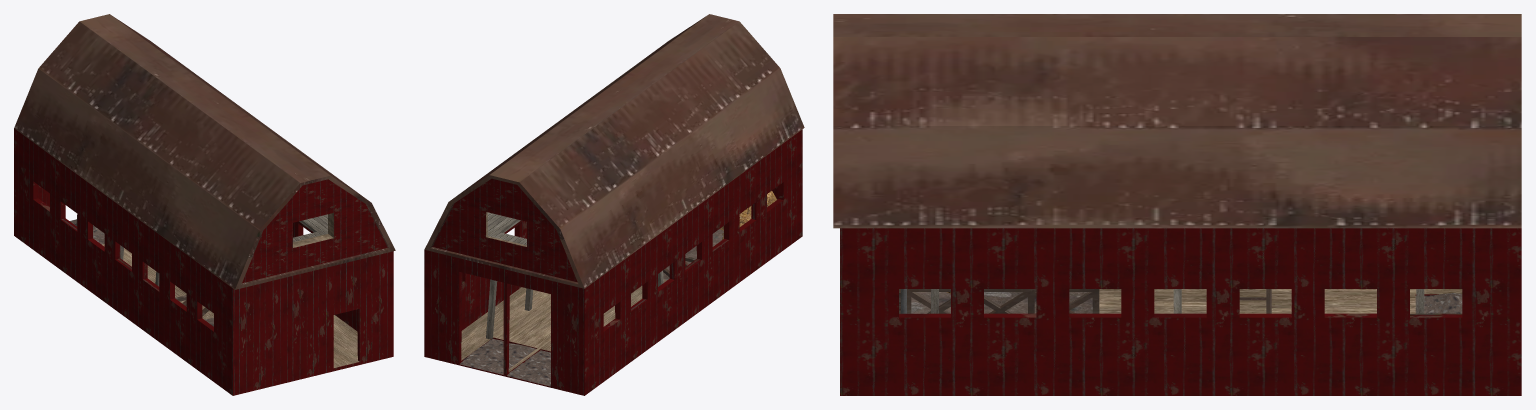
The model's file is old_wooden_barn_house_4.glb.
3 views of the same model, side by side, from view 1: azimuth 30°, elevation 25°; view 2: azimuth 150°, elevation 25°; view 3: azimuth 270°, elevation 25° (orthographic). The views are drawn at different scales.
Visible parts, largest first — view 1: Cube.007_1, Cube.004_0, Cube.022_6, Cube.018_15, Cube.024_16, Cube.026_18; view 2: Cube.007_1, Cube.004_0, Cube.022_6, Cube.018_15, Plane.015_2, Cube.024_16, Cube.019_5; view 3: Cube.007_1, Cube.004_0, Cube.018_15, Cube.006_3, Cube.025_17, Plane.015_2, Cube.019_5.
Part boxes in pixels (x1,y1,x2,y2): Cube.007_1: [14, 14, 395, 289]; Cube.004_0: [14, 128, 393, 395]; Cube.022_6: [242, 179, 387, 283]; Cube.018_15: [102, 244, 359, 367]; Cube.024_16: [293, 214, 327, 242]; Cube.026_18: [293, 213, 333, 247]; Cube.007_1: [424, 14, 804, 288]; Cube.004_0: [424, 129, 802, 395]; Cube.022_6: [432, 178, 577, 282]; Cube.018_15: [461, 279, 667, 371]; Plane.015_2: [460, 339, 550, 386]; Cube.024_16: [487, 212, 526, 245]; Cube.019_5: [486, 270, 663, 339]; Cube.007_1: [833, 14, 1521, 228]; Cube.004_0: [840, 228, 1521, 395]; Cube.018_15: [1099, 289, 1462, 313]; Cube.006_3: [899, 289, 1099, 313]; Cube.025_17: [911, 292, 1092, 313]; Plane.015_2: [1415, 293, 1462, 313]; Cube.019_5: [931, 289, 1424, 313].
Size of the model in its own units: 3.63 by 4.28 by 8.62.
10 materials, 10 textured.
